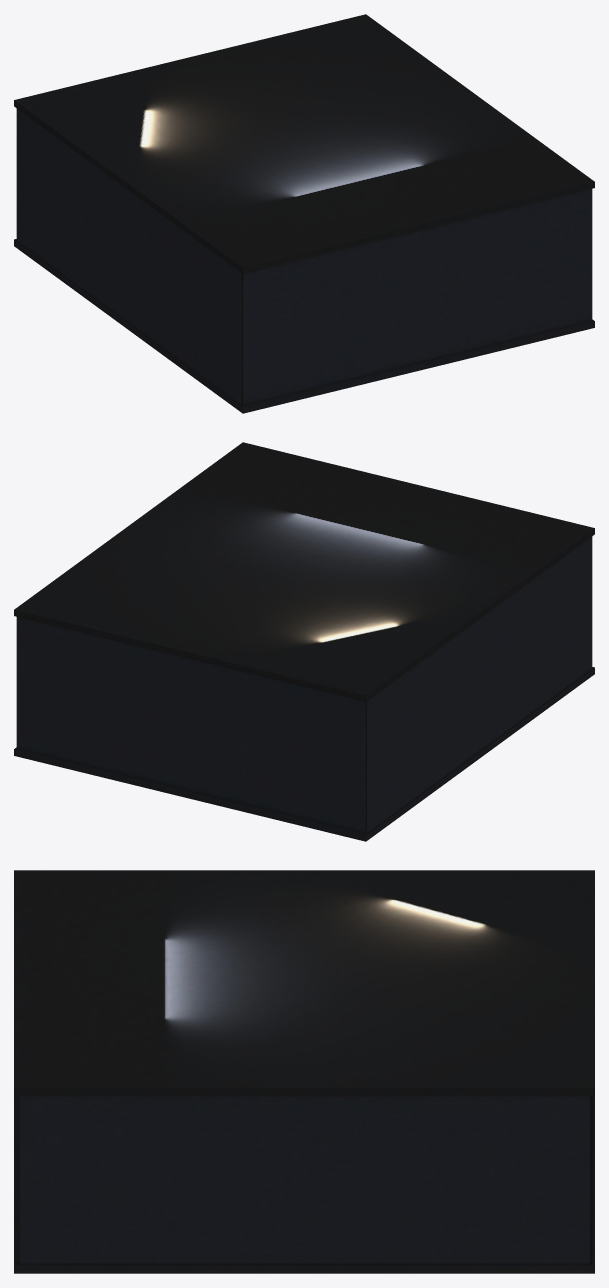
Rendered from room-frecuencia.glb.
The picture shows the model from 3 angles, top to bottom: view 1: azimuth 30°, elevation 25°; view 2: azimuth 150°, elevation 25°; view 3: azimuth 270°, elevation 25°; orthographic projection. The views are drawn at different scales.
Parts seen in each view (by area): view 1: frecuencia; view 2: frecuencia; view 3: frecuencia.
Boxes of the visible parts, bbox=[...] form: frecuencia: bbox=[14, 14, 594, 413]; frecuencia: bbox=[14, 442, 594, 841]; frecuencia: bbox=[14, 870, 594, 1273].
Size of the model in its own units: 16.6 by 6.58 by 18.7.
Materials: 1 (1 with a texture image).
